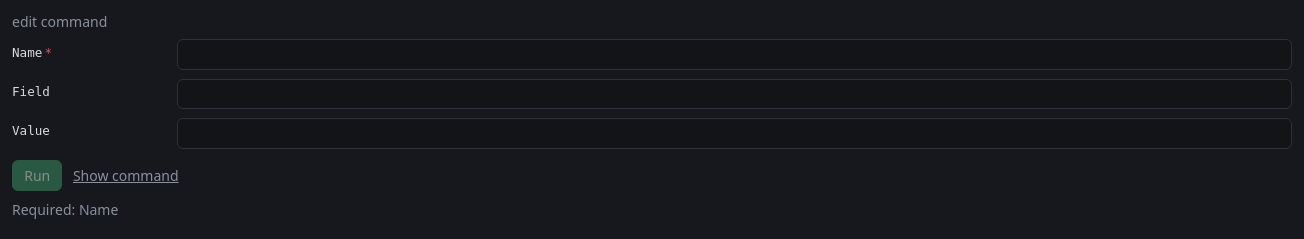
it: CommandForm › requires required positionals
The image size is (1304, 239).
Expected: the submit button is disabled, [12,160,62,191]
Step 1. Type "my profile" into the 1st field → (734,55), box [176,39,1292,70]
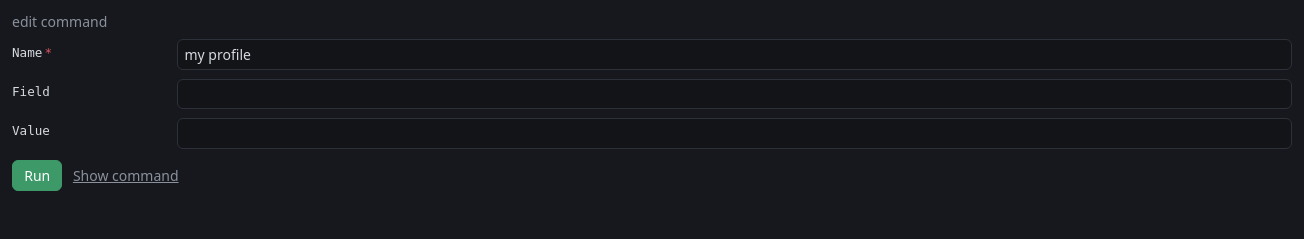
Now the submit button is enabled, box [12,160,62,191]
Step 2. Click the button "Show command" → (126,176), box [69,161,182,190]
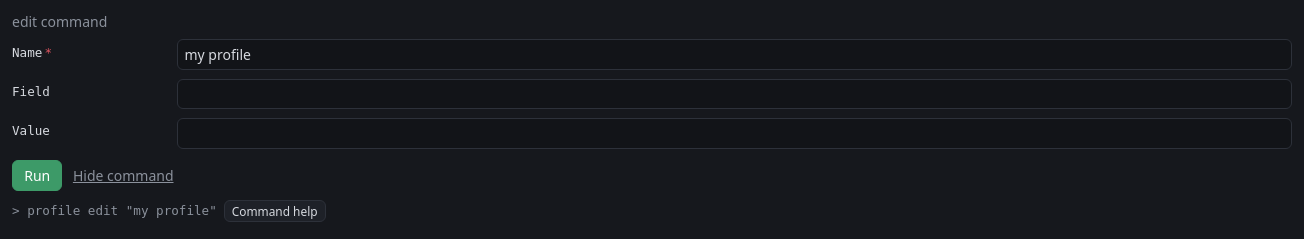
Now the text "> profile edit \"my profile\"" is shown, box [12,203,217,218]
